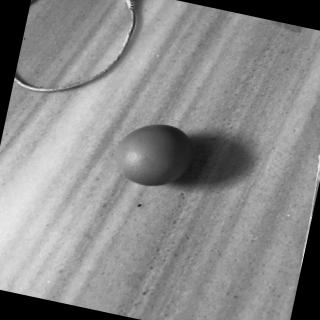Telur: (108, 116, 205, 200)
